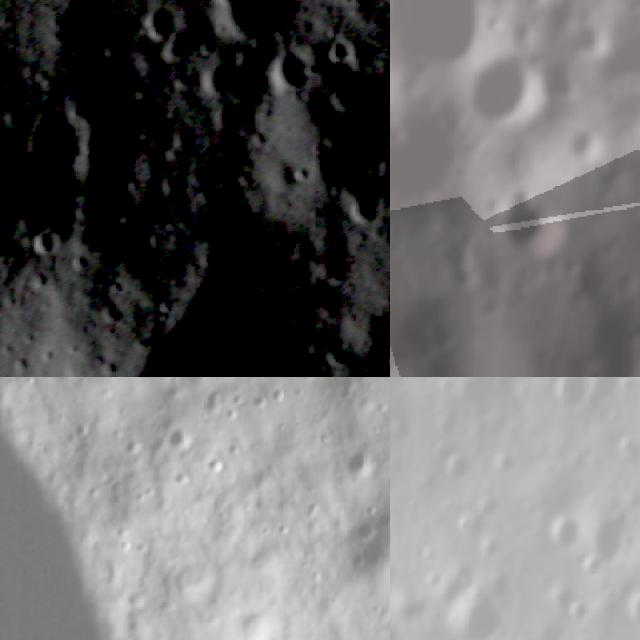crater: (99, 204, 340, 377), (390, 106, 485, 212), (306, 127, 390, 240), (458, 50, 554, 134), (390, 0, 500, 72), (21, 94, 95, 186), (501, 189, 579, 263), (605, 18, 640, 152), (444, 584, 501, 640), (261, 44, 313, 99), (448, 230, 489, 285), (538, 61, 585, 103), (574, 15, 616, 57), (164, 27, 204, 70), (19, 224, 64, 262), (235, 608, 283, 640), (559, 589, 596, 630), (546, 377, 589, 411), (441, 441, 469, 492), (141, 2, 178, 40), (324, 32, 359, 72), (547, 0, 584, 37), (568, 122, 610, 154), (540, 510, 575, 548), (351, 440, 374, 482), (203, 379, 225, 416), (269, 377, 294, 407), (582, 360, 616, 377), (72, 420, 96, 440), (353, 518, 375, 539), (206, 457, 227, 479), (627, 310, 640, 344), (228, 442, 248, 460), (175, 468, 192, 489), (378, 344, 390, 373), (224, 407, 243, 424), (119, 538, 136, 555), (230, 392, 250, 406), (251, 392, 268, 408), (364, 502, 381, 517), (632, 278, 640, 305)
